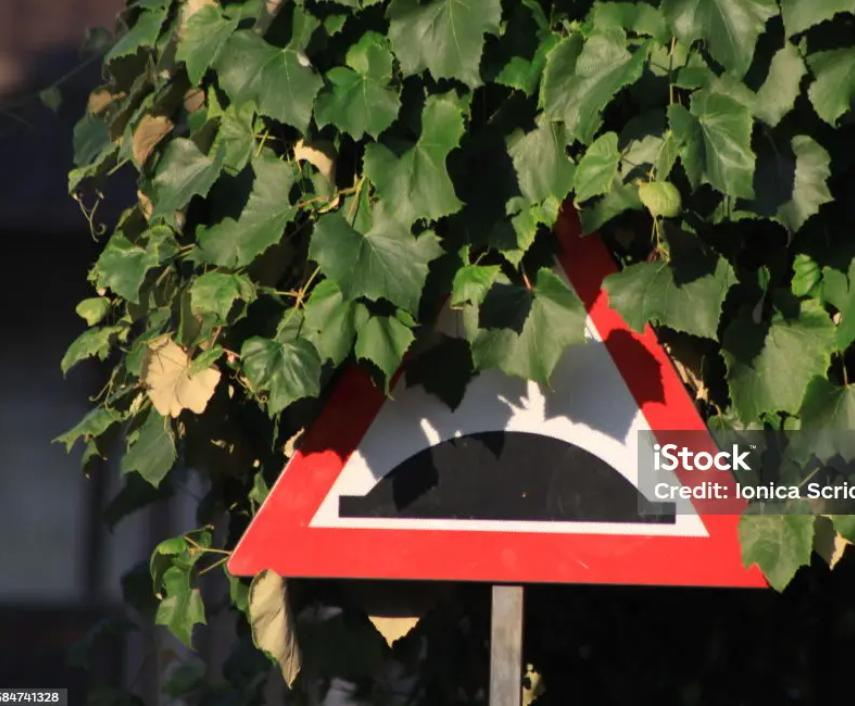obstructed_road_sign: (226, 175, 774, 589)
